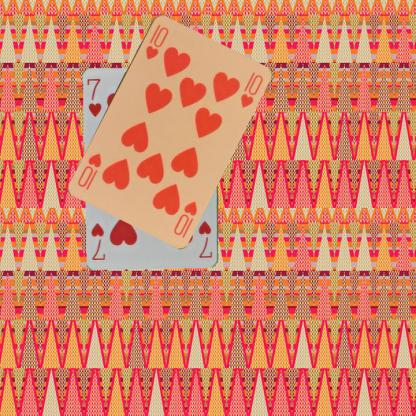10h: (143, 20, 170, 61), (171, 198, 198, 236)
7h: (85, 76, 103, 118), (196, 219, 213, 259)
